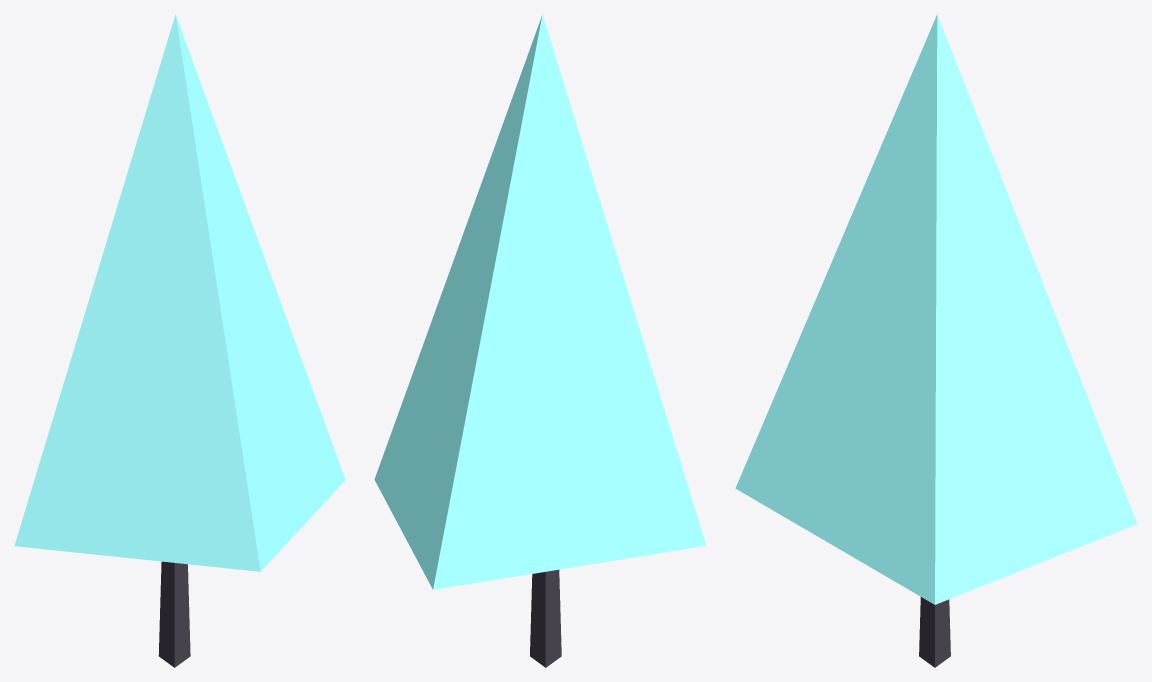
Rendered from teal_conifer_far.glb.
3 views of the same model, side by side, from view 1: azimuth 30°, elevation 25°; view 2: azimuth 150°, elevation 25°; view 3: azimuth 270°, elevation 25° (orthographic).
Visible parts, largest first — view 1: teal_conifer_far; view 2: teal_conifer_far; view 3: teal_conifer_far.
Part boxes in pixels (bbox=[...]): teal_conifer_far: bbox=[14, 14, 345, 667]; teal_conifer_far: bbox=[374, 14, 706, 667]; teal_conifer_far: bbox=[735, 14, 1137, 667].
Size of the model in its own units: 1.67 by 3.1 by 1.75.
